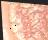plaque psoriasis: (7, 0, 48, 40), (0, 2, 9, 40)
